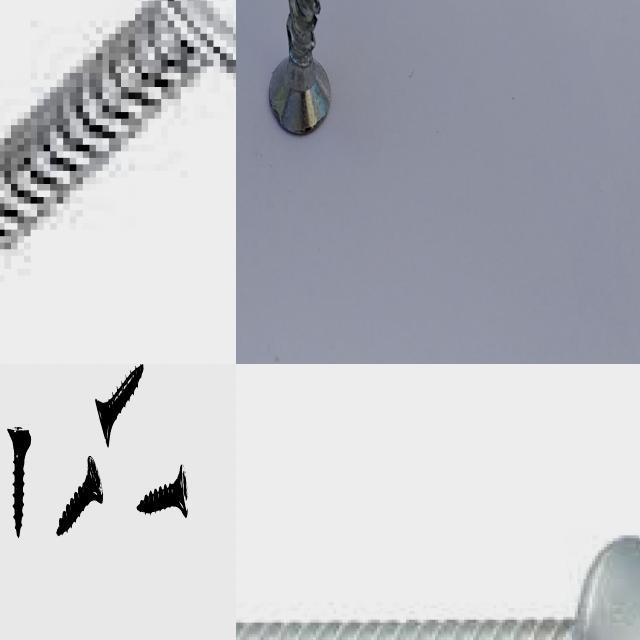Screw: (0, 0, 236, 254), (269, 0, 330, 133), (95, 364, 143, 446), (56, 455, 103, 534), (137, 464, 188, 516), (7, 425, 31, 535)
